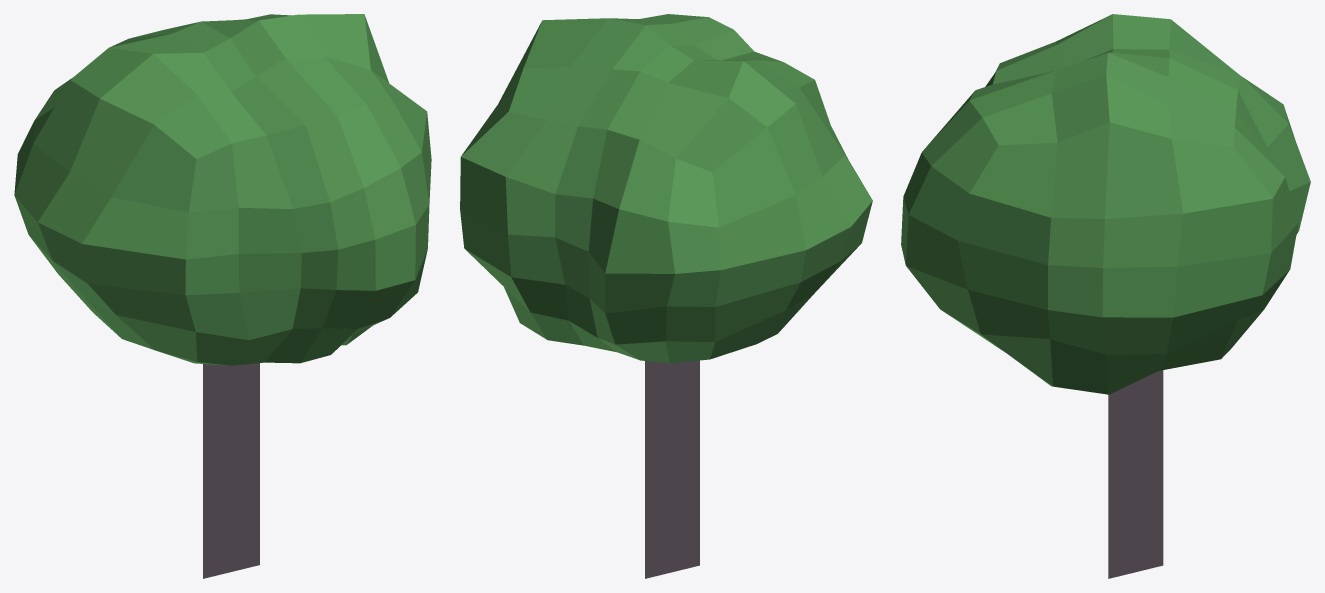
File: fbtree_3.fbx
3 views of the same model, side by side, from view 1: azimuth 30°, elevation 25°; view 2: azimuth 150°, elevation 25°; view 3: azimuth 270°, elevation 25° (orthographic). The views are drawn at different scales.
Visible parts, largest first — view 1: Cylinder.002; view 2: Cylinder.002; view 3: Cylinder.002.
Part boxes in pixels (bbox=[...]): Cylinder.002: bbox=[14, 14, 431, 578]; Cylinder.002: bbox=[460, 14, 872, 578]; Cylinder.002: bbox=[901, 14, 1310, 578].
Size of the model in its own units: 173 by 244 by 172.
